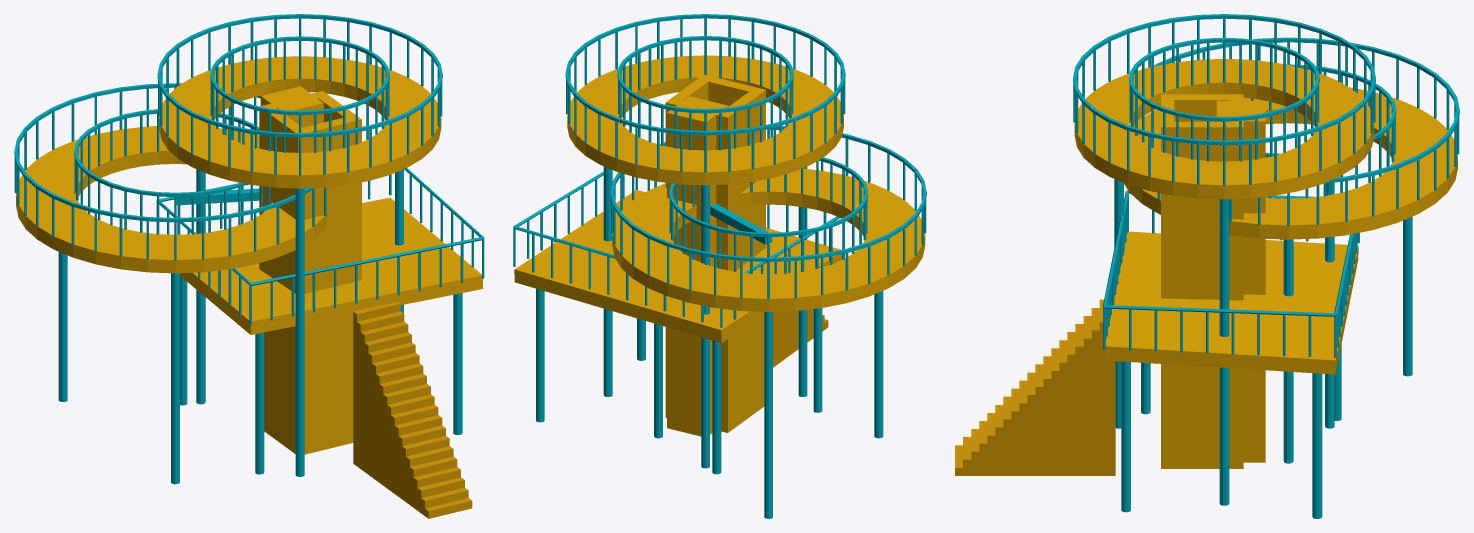
File: folie_tag_133.glb
3 views of the same model, side by side, from view 1: azimuth 30°, elevation 25°; view 2: azimuth 150°, elevation 25°; view 3: azimuth 270°, elevation 25° (orthographic). The views are drawn at different scales.
Visible parts, largest first — view 1: folie_tag_133_line, folie_tag_133_03_tower, folie_tag_133_01_ring, folie_tag_133_00_ring, folie_tag_133_stairs, folie_tag_133_02_plate, folie_tag_133_core; view 2: folie_tag_133_line, folie_tag_133_00_ring, folie_tag_133_01_ring, folie_tag_133_02_plate, folie_tag_133_03_tower, folie_tag_133_core, folie_tag_133_stairs; view 3: folie_tag_133_line, folie_tag_133_01_ring, folie_tag_133_02_plate, folie_tag_133_03_tower, folie_tag_133_stairs, folie_tag_133_00_ring, folie_tag_133_core.
Part boxes in pixels (x1,y1,x2,y2): folie_tag_133_line: [14, 14, 484, 484]; folie_tag_133_03_tower: [259, 91, 361, 454]; folie_tag_133_01_ring: [159, 56, 441, 188]; folie_tag_133_00_ring: [16, 126, 325, 273]; folie_tag_133_stairs: [353, 302, 472, 518]; folie_tag_133_02_plate: [180, 197, 483, 334]; folie_tag_133_core: [260, 86, 323, 127]; folie_tag_133_line: [513, 14, 926, 518]; folie_tag_133_00_ring: [612, 168, 925, 311]; folie_tag_133_01_ring: [567, 55, 843, 185]; folie_tag_133_02_plate: [514, 190, 842, 342]; folie_tag_133_03_tower: [665, 74, 765, 432]; folie_tag_133_core: [667, 96, 728, 436]; folie_tag_133_stairs: [773, 309, 828, 367]; folie_tag_133_line: [1073, 14, 1459, 518]; folie_tag_133_01_ring: [1074, 59, 1374, 199]; folie_tag_133_02_plate: [1104, 231, 1358, 374]; folie_tag_133_03_tower: [1161, 94, 1243, 468]; folie_tag_133_stairs: [955, 299, 1115, 475]; folie_tag_133_00_ring: [1124, 87, 1457, 239]; folie_tag_133_core: [1216, 100, 1265, 462].
Bounding box in the file's own units: 10.4 × 9.27 × 11.32.
